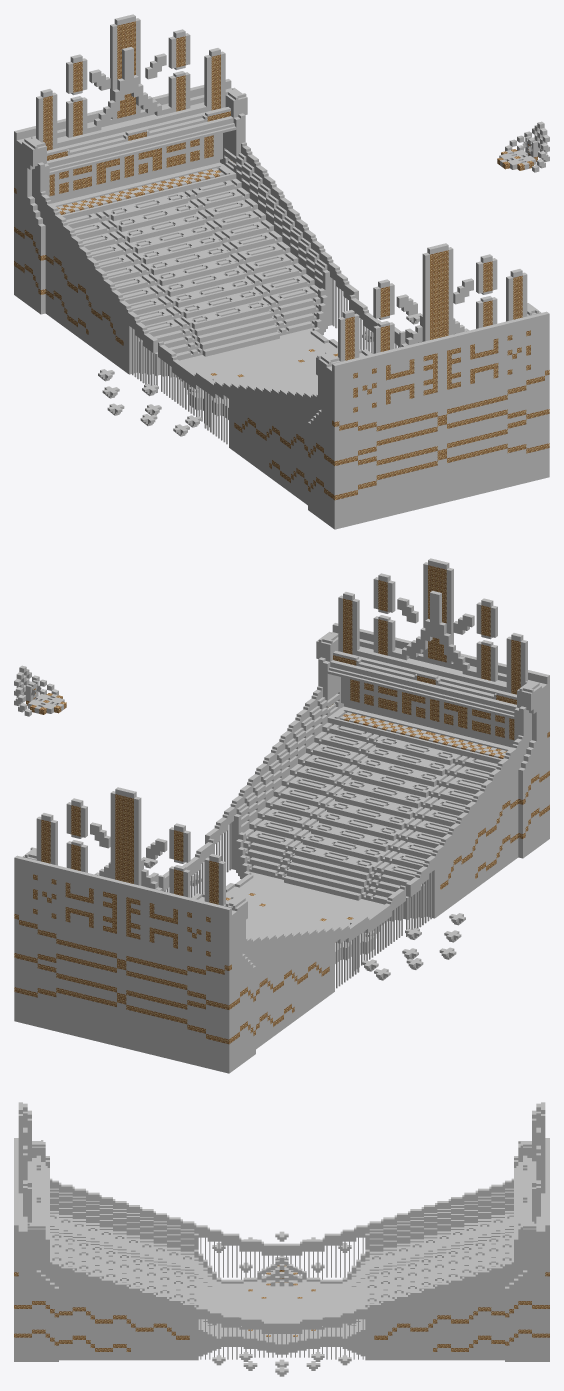
The model's file is minecraft.obj.
3 renders of one model, top to bottom at view 1: azimuth 30°, elevation 25°; view 2: azimuth 150°, elevation 25°; view 3: azimuth 270°, elevation 25°, orthographic. The views are drawn at different scales.
Bounding box in the file's own units: 93 × 52 × 119.
